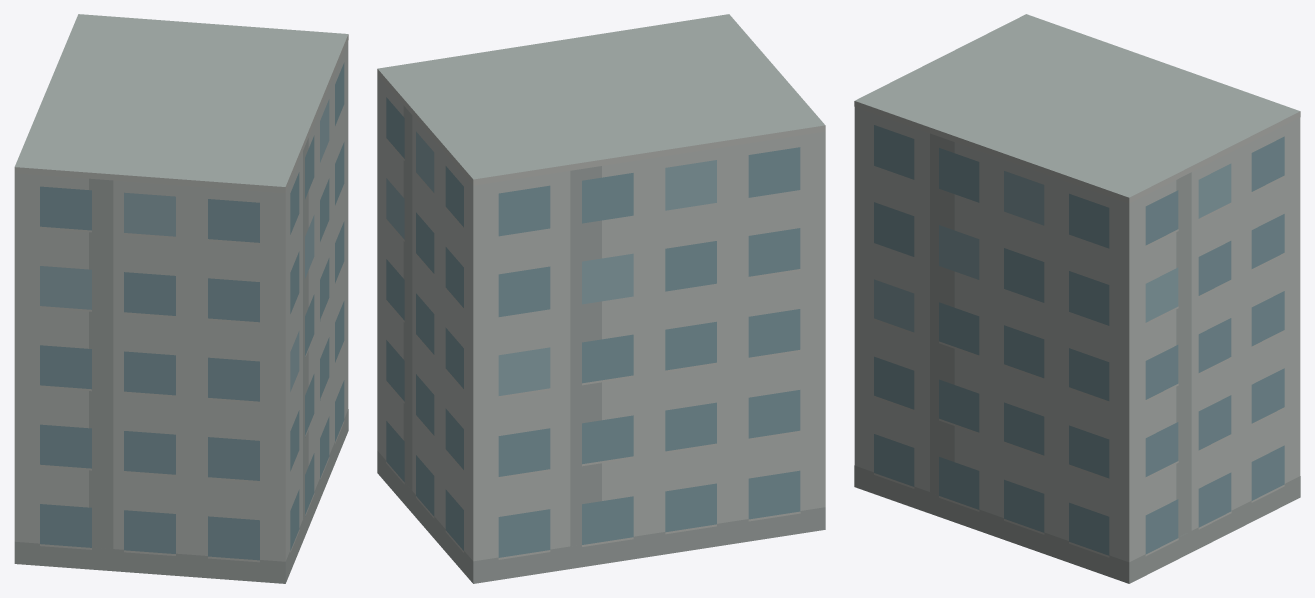
Rendered from survey-upis-32884784.glb.
3 views of the same model, side by side, from view 1: azimuth 30°, elevation 25°; view 2: azimuth 150°, elevation 25°; view 3: azimuth 270°, elevation 25° (orthographic). The views are drawn at different scales.
Visible parts, largest first — view 1: survey-upis-32884784.tmp; view 2: survey-upis-32884784.tmp; view 3: survey-upis-32884784.tmp.
Boxes of the visible parts, x1,y1,x2,y2 form: survey-upis-32884784.tmp: [14, 14, 348, 583]; survey-upis-32884784.tmp: [377, 14, 825, 583]; survey-upis-32884784.tmp: [854, 14, 1300, 583].
Size of the model in its own units: 16.13 by 15.8 by 16.54.
